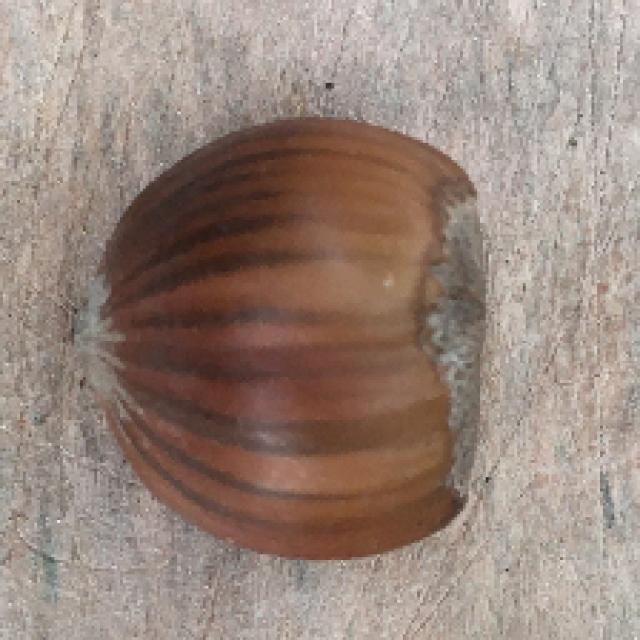damagedHazelnut: (65, 113, 489, 557)
